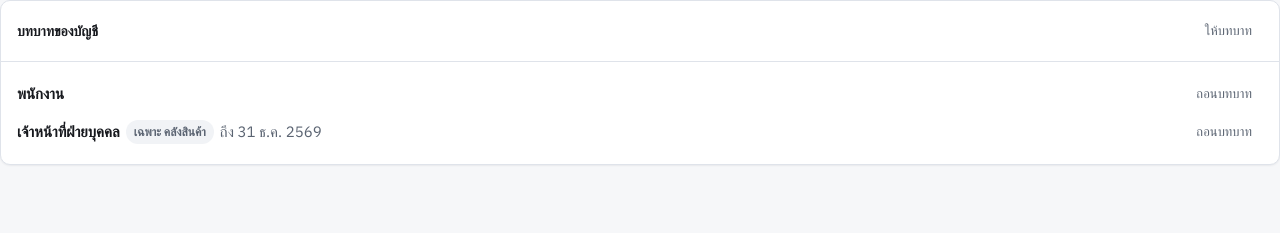
Account roles on the employee page (CW-079) › removes a role after asking, and says why a removal was refused
The image size is (1280, 233).
Click the button "ถอนบทบาท" in the row of "เจ้าหน้าที่ฝ่ายบุคคล": coordinates (1224, 132) x1=1185 y1=116 x2=1263 y2=148
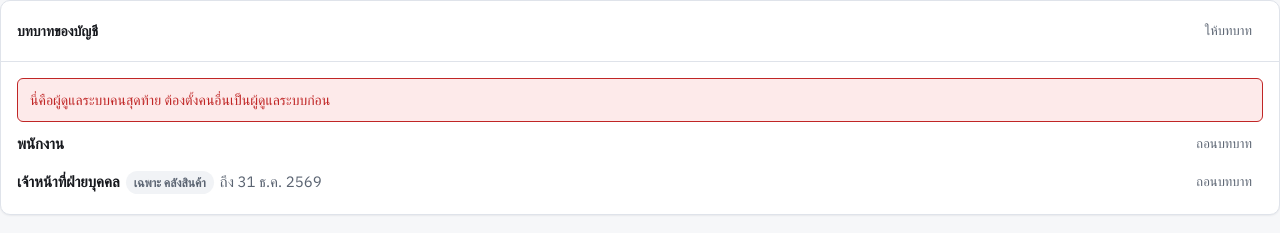
Expected: the message shows "นี่คือผู้ดูแลระบบคนสุดท้าย", x1=30 y1=91 x2=330 y2=109
